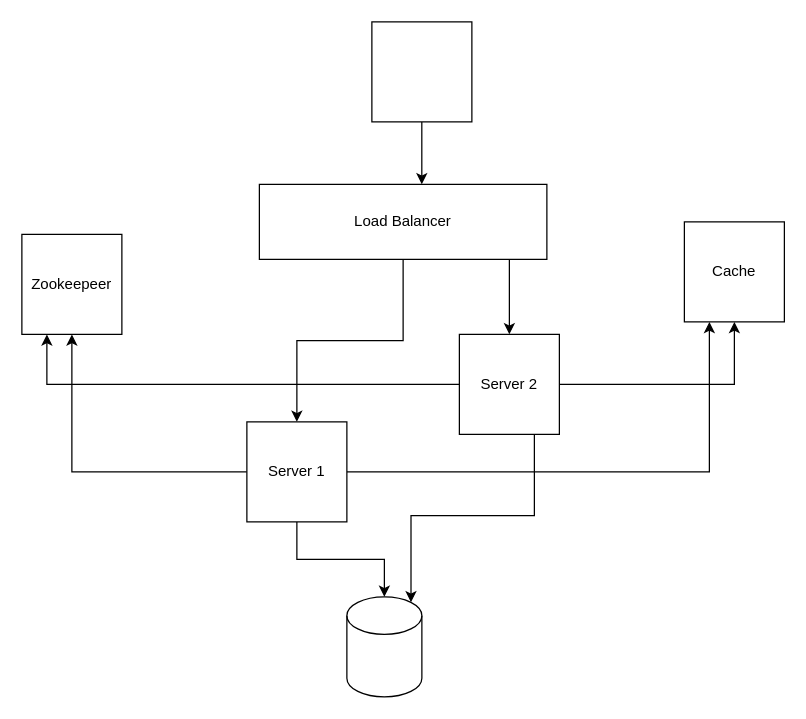
This 806x719 diagram has some shape labels left out. Each missing label, with the box of its shape:
DataBase: (346, 596, 422, 697)
User: (371, 21, 472, 122)
